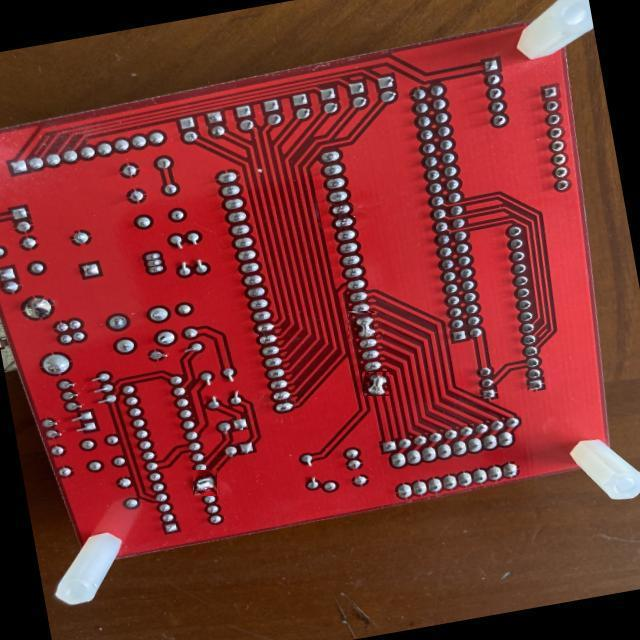damged: (348, 312, 378, 339), (362, 371, 389, 396), (192, 471, 218, 496)
